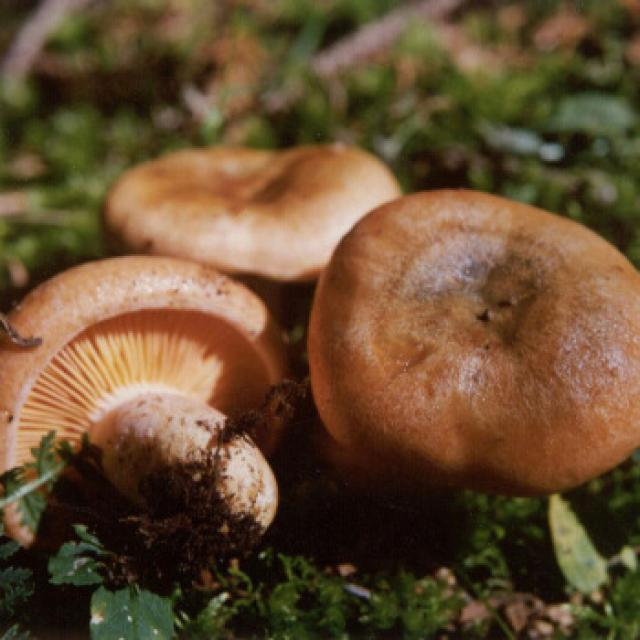Lentinus edodes: (307, 188, 640, 495), (0, 254, 297, 569), (109, 151, 404, 287)
